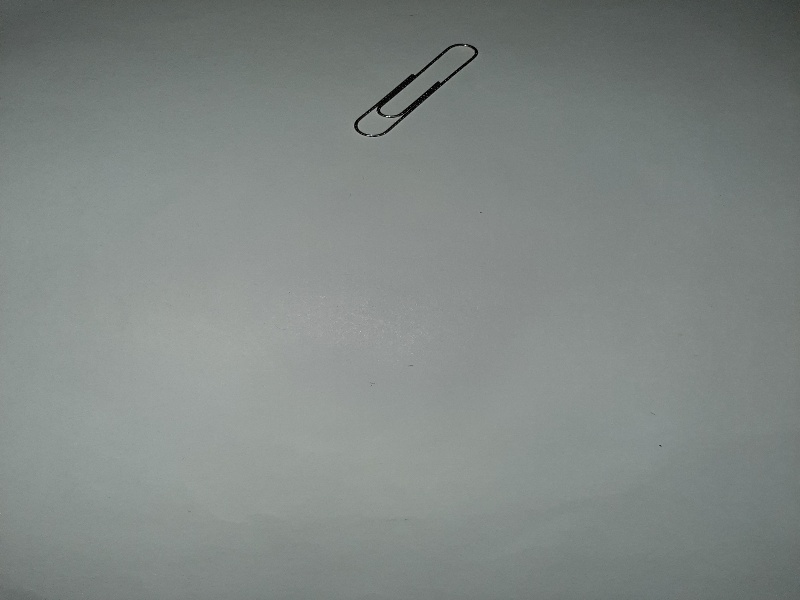Big Jumpclip: (349, 40, 482, 144)
